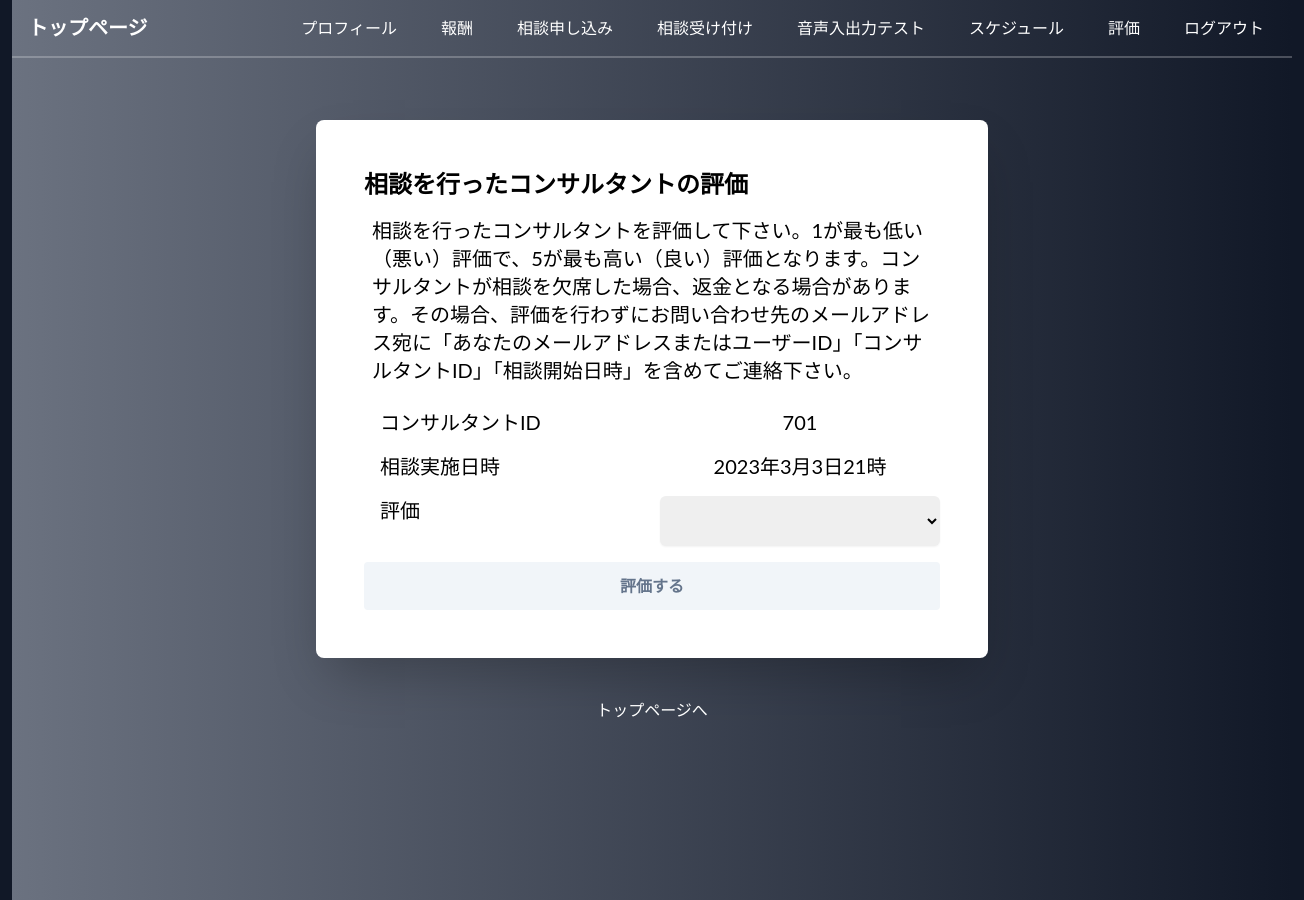
it: RateConsultantPage.vue › enables submit button after selecting rate
Expected: the heading with test id "consultant-rating-label" reads "相談を行ったコンサルタントの評価", top-left (364, 169), bottom-right (748, 198)
Expected: the text with test id "consultant-id-label" reads "コンサルタントID", top-left (380, 410), bottom-right (541, 434)
Select "3" in the dropdown at point(800, 521), box top-left (660, 496), bottom-right (940, 546)
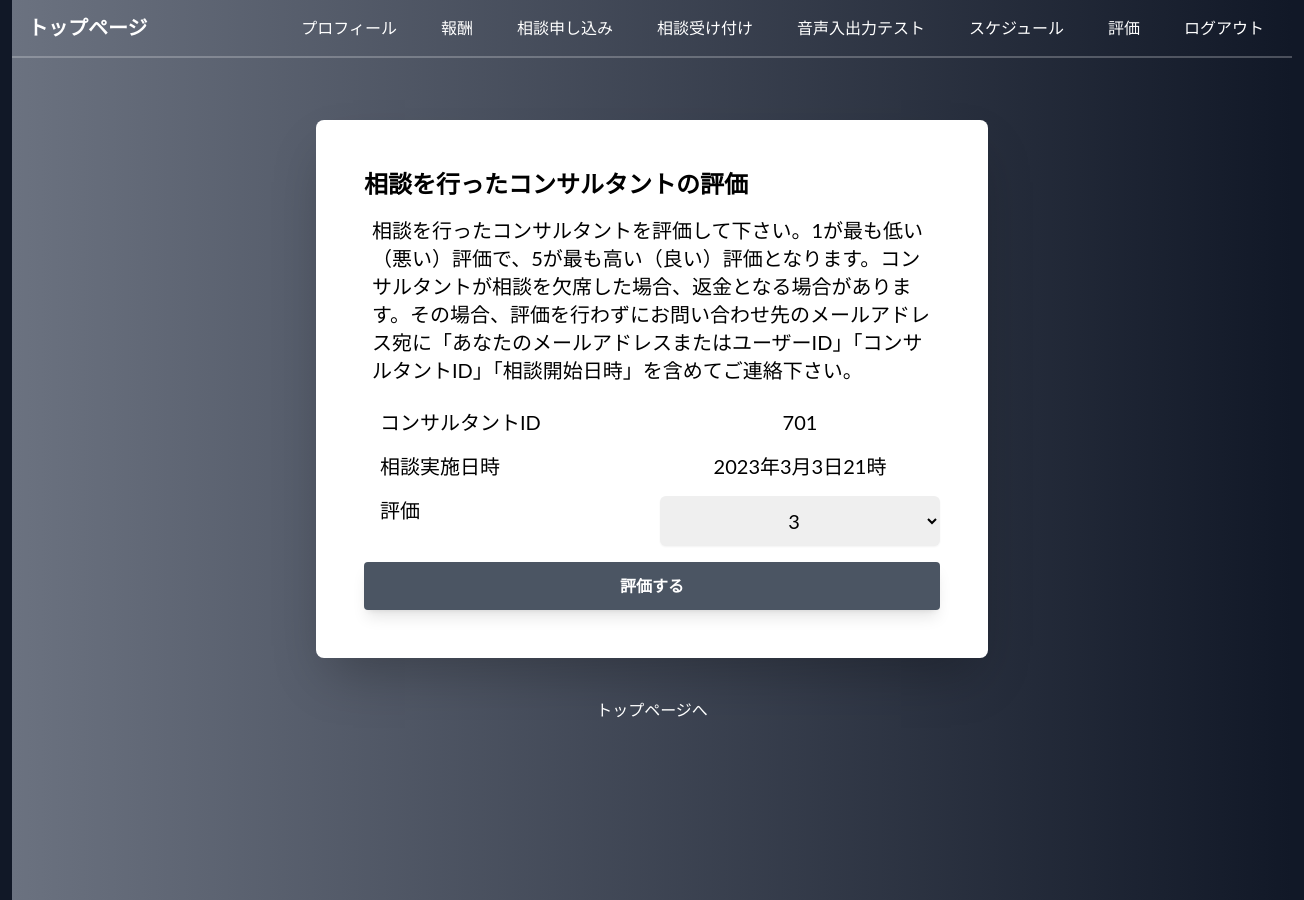
Result: the button with test id "submit-button" is enabled at top-left (364, 562), bottom-right (940, 610)
